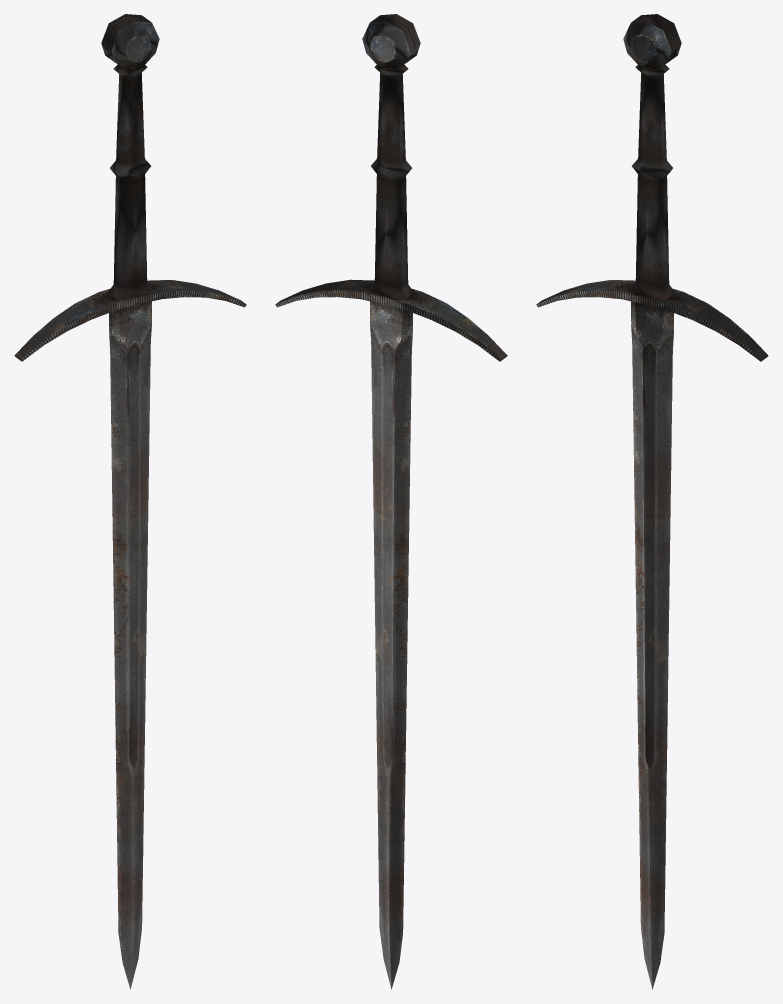
Rendered from Bastard Sword.fbx.
The picture shows the model from 3 angles, left to right: view 1: azimuth 30°, elevation 25°; view 2: azimuth 150°, elevation 25°; view 3: azimuth 330°, elevation 25°; orthographic projection.
Visible parts, largest first — view 1: mesh0, mesh1; view 2: mesh0, mesh1; view 3: mesh0, mesh1.
Boxes of the visible parts, x1,y1,x2,y2 form: mesh0: (14, 14, 246, 989); mesh1: (108, 64, 152, 299); mesh0: (275, 14, 507, 989); mesh1: (369, 64, 413, 298); mesh0: (536, 14, 768, 989); mesh1: (630, 64, 674, 299).
Bounding box in the file's own units: 34.02 × 139 × 4.46.
